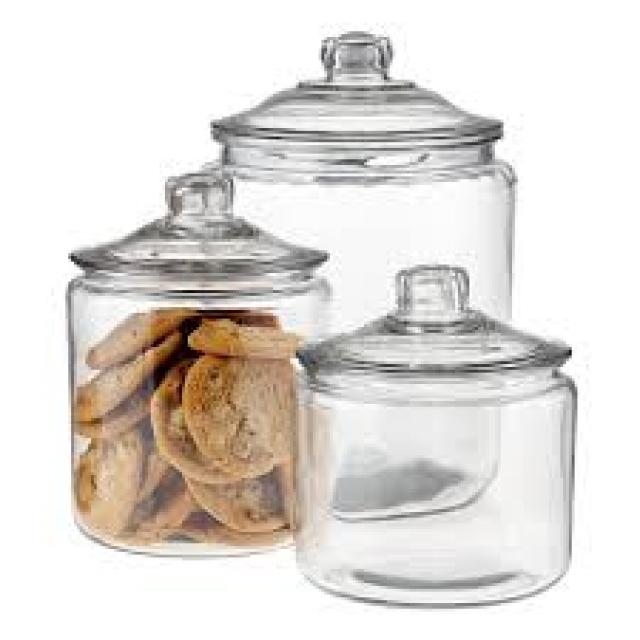organic waste: (148, 356, 267, 480), (182, 347, 296, 467), (71, 330, 179, 415), (68, 424, 140, 529), (179, 461, 282, 529), (179, 472, 287, 535), (82, 307, 194, 358), (74, 370, 148, 435), (182, 318, 302, 356), (122, 478, 196, 535), (267, 452, 296, 535), (134, 427, 170, 489), (125, 481, 159, 529), (199, 307, 276, 324)
